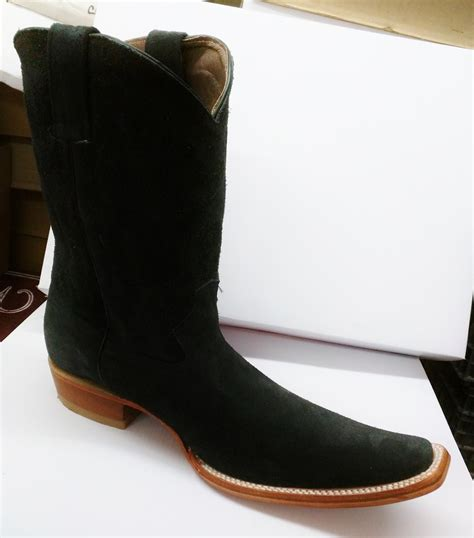gamuza: (12, 26, 433, 492)
